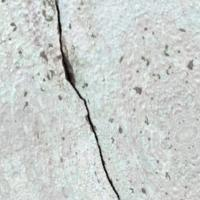crack: (48, 0, 126, 199)
